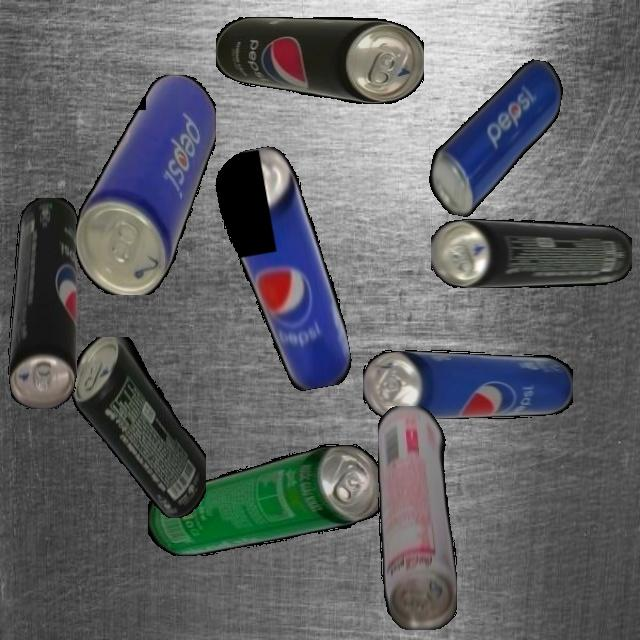debris: (211, 139, 355, 399), (75, 74, 216, 295), (147, 444, 384, 556), (424, 46, 567, 229), (70, 336, 206, 518), (215, 17, 424, 104), (377, 405, 457, 630), (7, 197, 77, 409), (363, 349, 573, 419), (431, 218, 632, 288)
